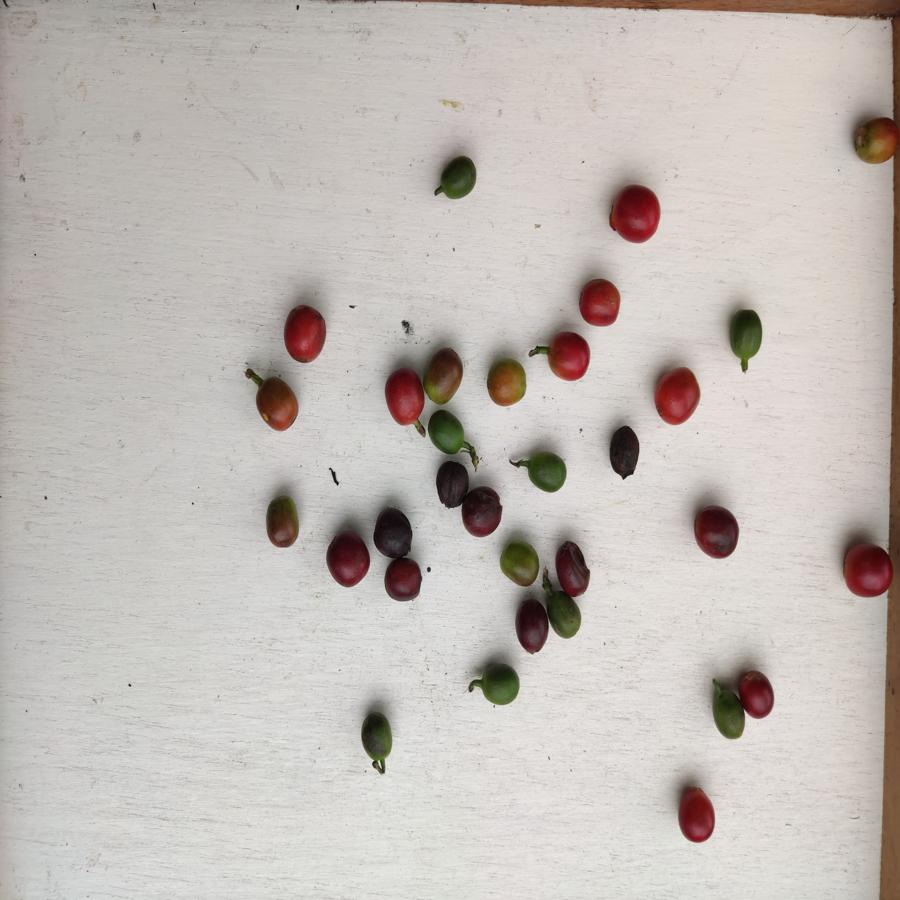Inmaduro: (705, 689, 749, 742), (724, 304, 764, 362), (437, 155, 479, 203), (424, 410, 468, 454), (545, 595, 587, 641), (359, 712, 395, 765), (475, 665, 522, 705), (526, 451, 569, 493)
Maduro: (838, 544, 894, 596), (654, 365, 700, 425), (613, 186, 660, 242), (281, 304, 329, 358), (381, 365, 425, 423), (673, 788, 719, 843), (542, 332, 592, 379), (578, 278, 620, 325)
Pinton: (850, 115, 900, 169), (253, 377, 301, 429), (420, 350, 464, 405), (482, 359, 530, 407), (498, 543, 543, 588), (266, 496, 303, 548)
Sobremaduro: (325, 529, 373, 586), (693, 507, 739, 562), (371, 507, 419, 558), (552, 538, 594, 596), (462, 486, 504, 541), (512, 597, 550, 654), (383, 556, 428, 602), (604, 427, 643, 479), (739, 668, 777, 720), (432, 459, 473, 505)
